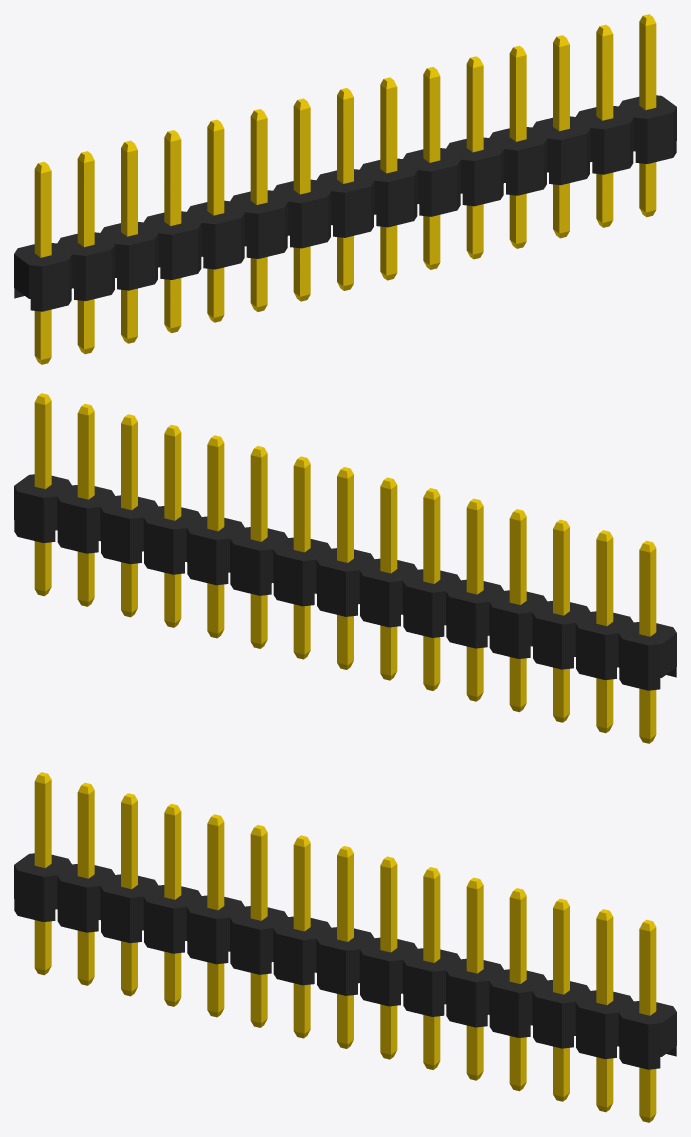
The model's file is PLS2-15.glb.
3 views of the same model, one above another, from view 1: azimuth 30°, elevation 25°; view 2: azimuth 150°, elevation 25°; view 3: azimuth 330°, elevation 25° (orthographic).
Parts seen in each view (by area): view 1: PLS2 (DS1025-01 CONNFLY); view 2: PLS2 (DS1025-01 CONNFLY); view 3: PLS2 (DS1025-01 CONNFLY).
Part boxes in pixels (x1,y1,x2,y2): PLS2 (DS1025-01 CONNFLY): (14,14,676,364); PLS2 (DS1025-01 CONNFLY): (14,393,676,743); PLS2 (DS1025-01 CONNFLY): (14,772,676,1122).
Bounding box in the file's own units: 0.03 × 0.0088 × 0.002.
